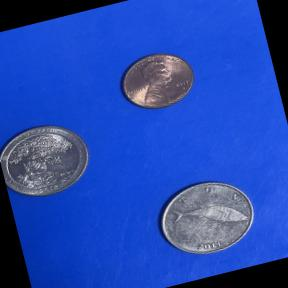coin: (142, 164, 269, 272), (0, 112, 100, 207), (109, 40, 204, 122)
